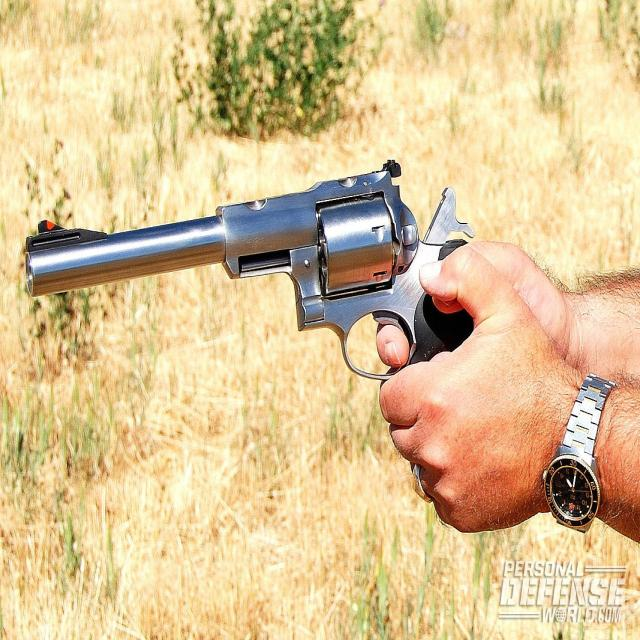HandGun: (25, 159, 475, 382)
